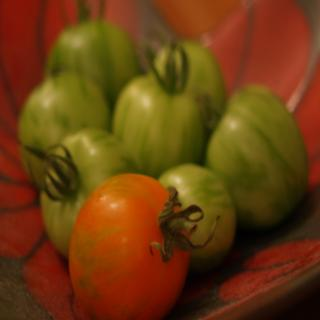tomato: (67, 171, 221, 320), (24, 126, 142, 255), (206, 81, 310, 227), (111, 48, 205, 178), (18, 62, 110, 183), (44, 3, 138, 109), (160, 162, 235, 261), (154, 36, 223, 124)
